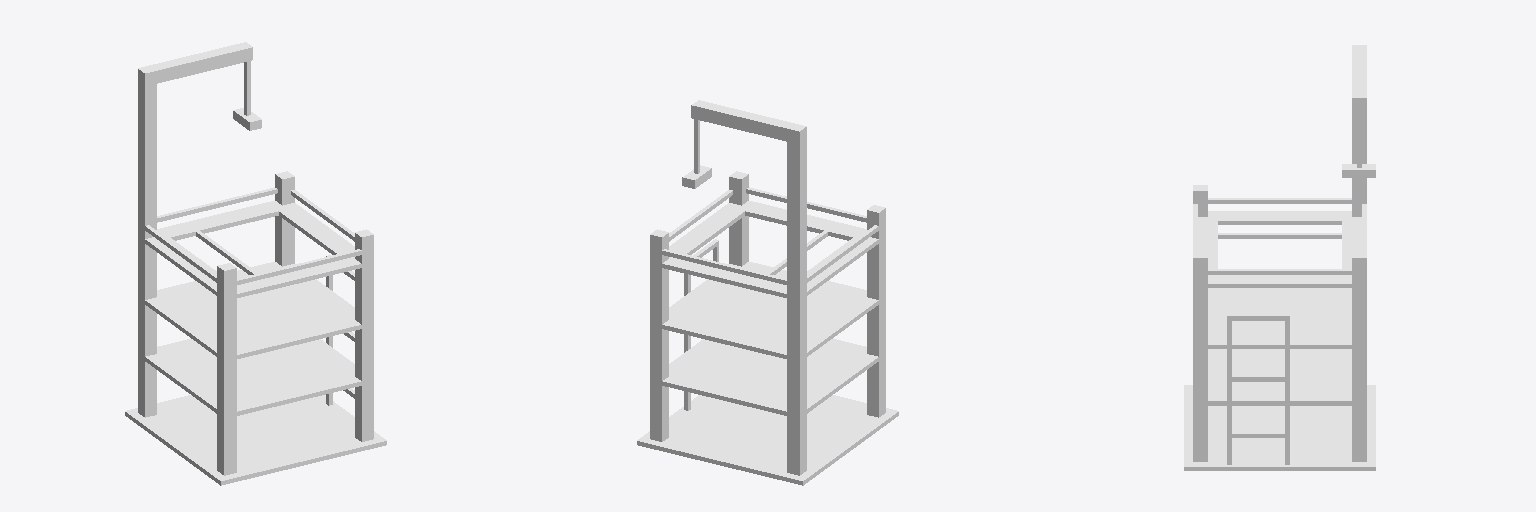
File: Asset-26.obj
3 views of the same model, side by side, from view 1: azimuth 30°, elevation 25°; view 2: azimuth 150°, elevation 25°; view 3: azimuth 270°, elevation 25° (orthographic).
Parts seen in each view (by area): view 1: Asset-26; view 2: Asset-26; view 3: Asset-26.
Part boxes in pixels (bbox=[...]): Asset-26: bbox=[125, 42, 386, 485]; Asset-26: bbox=[637, 100, 898, 485]; Asset-26: bbox=[1184, 45, 1375, 470].
Bounding box in the file's own units: 40 × 80 × 40.